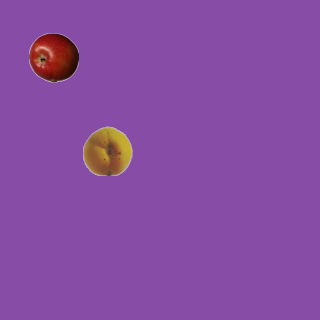Apple Braeburn: (28, 32, 78, 82)
Peach 2: (82, 125, 132, 175)
